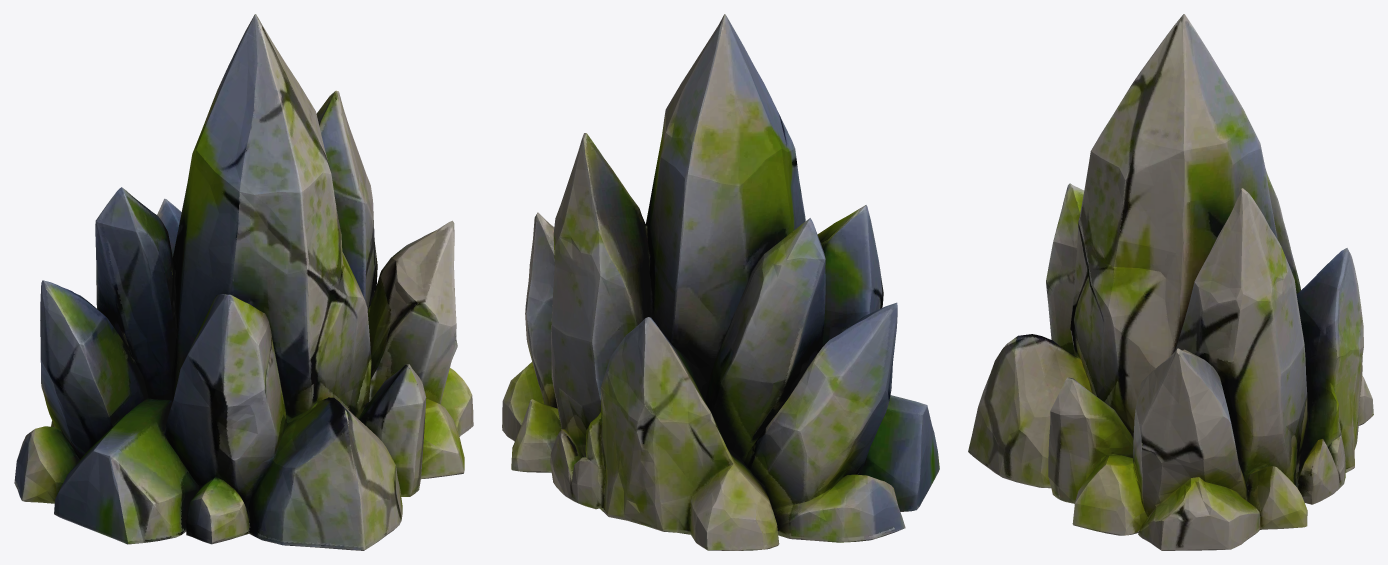
File: crystal_cluster_12.glb
3 renders of one model, left to right at view 1: azimuth 30°, elevation 25°; view 2: azimuth 150°, elevation 25°; view 3: azimuth 270°, elevation 25°, orthographic. The views are drawn at different scales.
Bounding box in the file's own units: 1.89 × 1.98 × 1.65.
1 material, 1 textured.
